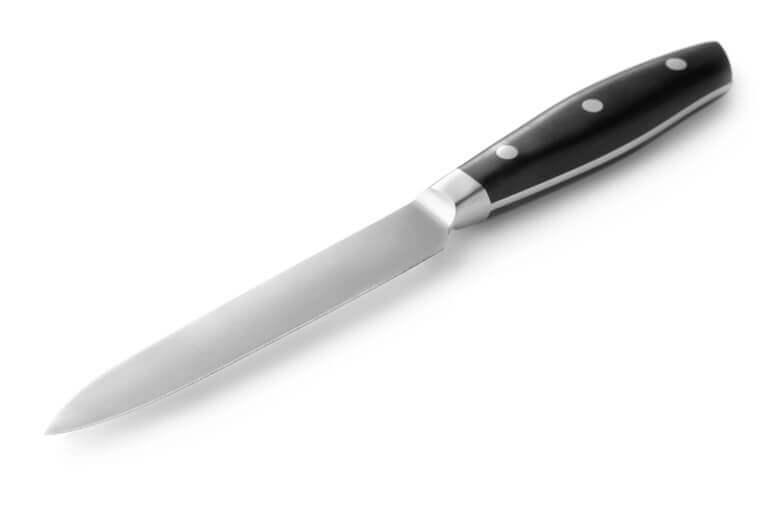Knife: (43, 38, 733, 436)
